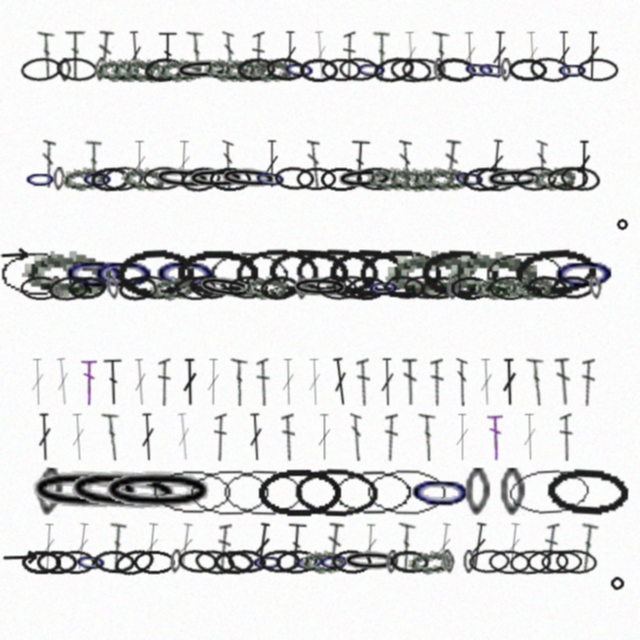chain: (62, 464, 185, 520), (25, 466, 146, 517), (98, 467, 218, 516), (384, 246, 476, 299), (513, 246, 597, 299), (506, 466, 591, 518), (207, 247, 291, 299), (545, 466, 629, 518), (22, 248, 111, 297), (295, 247, 380, 298), (267, 247, 351, 298), (448, 249, 537, 297), (328, 247, 411, 298), (294, 467, 378, 517), (115, 247, 197, 298), (235, 248, 320, 297), (221, 467, 304, 517), (420, 248, 501, 298), (257, 468, 341, 516), (331, 467, 413, 516), (365, 467, 447, 516), (176, 249, 258, 297), (359, 249, 441, 297), (483, 249, 565, 297), (188, 468, 270, 516), (151, 468, 232, 516), (0, 249, 78, 297), (61, 248, 129, 298), (90, 248, 158, 298), (152, 248, 220, 298), (407, 467, 475, 516), (551, 249, 618, 297), (195, 272, 257, 304), (152, 165, 213, 193), (218, 165, 279, 192), (173, 57, 234, 83), (335, 166, 395, 192), (484, 166, 544, 192), (112, 545, 157, 579), (290, 275, 350, 300), (341, 549, 401, 574), (35, 467, 64, 517), (186, 167, 246, 191), (148, 273, 195, 303), (371, 54, 416, 85), (47, 273, 92, 303), (60, 164, 106, 193), (473, 273, 519, 302), (187, 272, 230, 303), (179, 164, 223, 194), (193, 547, 237, 577), (528, 55, 573, 84), (122, 56, 168, 84), (387, 165, 433, 193), (407, 548, 453, 576), (130, 273, 174, 302), (526, 273, 569, 302), (389, 56, 433, 84), (435, 55, 477, 84), (559, 164, 601, 193), (121, 165, 166, 192), (531, 165, 576, 192), (508, 274, 553, 301), (419, 274, 462, 302), (465, 468, 490, 516), (500, 468, 525, 516), (55, 56, 99, 83), (315, 274, 359, 301), (117, 274, 159, 302), (157, 57, 202, 83), (246, 57, 291, 83), (101, 165, 144, 192), (332, 274, 375, 301), (403, 274, 446, 301), (555, 548, 598, 575), (20, 56, 62, 83), (143, 56, 185, 83), (515, 165, 557, 192), (384, 274, 426, 301), (177, 548, 219, 575), (226, 548, 268, 575), (401, 57, 444, 83), (462, 166, 505, 192), (488, 549, 531, 575), (509, 549, 552, 575), (265, 56, 306, 83), (259, 274, 300, 301), (204, 57, 248, 82), (367, 166, 411, 191), (411, 166, 455, 191), (425, 166, 469, 191), (243, 275, 287, 300), (301, 549, 345, 574), (475, 166, 517, 192), (346, 275, 388, 301), (93, 549, 135, 575), (275, 549, 318, 574), (90, 166, 131, 192), (67, 275, 108, 301), (213, 549, 254, 575), (389, 549, 430, 575), (95, 58, 139, 82), (111, 58, 155, 82), (222, 58, 266, 82), (338, 57, 380, 82), (331, 549, 373, 574), (468, 549, 510, 574), (527, 549, 569, 574), (292, 547, 328, 576), (236, 57, 277, 82), (143, 166, 184, 191), (274, 166, 315, 191), (547, 166, 588, 191), (552, 275, 593, 300), (259, 549, 300, 574), (475, 56, 511, 84), (577, 58, 619, 82), (209, 167, 251, 191), (320, 167, 362, 191), (356, 167, 398, 191), (20, 276, 62, 300), (489, 276, 531, 300), (133, 550, 175, 574), (228, 275, 268, 300), (175, 276, 216, 300), (450, 276, 491, 300), (36, 550, 77, 574), (541, 550, 582, 574), (299, 58, 339, 82), (321, 58, 361, 82), (508, 58, 548, 82), (296, 167, 336, 191), (21, 550, 61, 574), (55, 550, 95, 574), (282, 56, 317, 83), (462, 56, 497, 83), (253, 165, 288, 192), (452, 165, 487, 192), (74, 549, 108, 575), (355, 57, 388, 82), (367, 275, 400, 300), (318, 549, 351, 574), (556, 58, 589, 82), (24, 167, 57, 191), (81, 167, 114, 191), (251, 550, 284, 574), (105, 275, 121, 300), (588, 275, 603, 300), (441, 549, 456, 574), (94, 57, 108, 82), (169, 549, 183, 574), (385, 550, 399, 574), (433, 58, 446, 82), (50, 276, 63, 300), (59, 58, 71, 82), (500, 58, 512, 82), (53, 167, 65, 191), (296, 276, 308, 300), (447, 276, 459, 300), (463, 550, 475, 574)
double: (574, 522, 599, 572), (285, 522, 308, 571), (349, 139, 371, 188), (101, 412, 123, 461), (105, 522, 127, 571), (251, 522, 273, 571), (433, 522, 455, 571), (467, 522, 489, 571), (186, 30, 207, 79), (441, 139, 462, 188), (330, 357, 351, 406), (526, 357, 547, 406), (71, 522, 92, 571), (175, 522, 196, 571), (324, 522, 345, 571), (65, 31, 86, 79), (103, 358, 124, 406), (95, 30, 115, 79), (486, 139, 506, 188), (53, 357, 73, 406), (554, 357, 574, 406), (174, 412, 194, 461), (141, 522, 161, 571), (396, 522, 416, 571), (503, 522, 523, 571), (158, 31, 178, 79), (311, 30, 330, 79), (37, 31, 56, 79), (126, 31, 145, 79), (371, 31, 390, 79), (83, 140, 102, 188), (131, 358, 150, 406), (418, 413, 437, 461), (542, 522, 560, 571), (402, 31, 420, 79), (432, 31, 450, 79), (523, 31, 541, 79), (174, 140, 192, 188), (230, 358, 248, 406), (69, 413, 87, 461), (139, 413, 157, 461), (247, 413, 265, 461), (39, 523, 57, 571), (361, 523, 379, 571), (461, 31, 478, 79), (491, 31, 508, 79), (584, 31, 601, 79), (29, 358, 46, 406), (306, 358, 323, 406), (379, 358, 396, 406), (402, 358, 419, 406), (478, 358, 495, 406), (501, 358, 518, 406), (36, 413, 53, 461), (487, 413, 504, 461), (521, 413, 538, 461), (282, 31, 298, 79), (556, 31, 572, 79), (40, 140, 56, 188), (131, 140, 147, 188), (264, 140, 280, 188), (576, 140, 592, 188), (81, 358, 97, 406), (182, 358, 198, 406), (205, 358, 221, 406), (280, 358, 296, 406), (316, 413, 332, 461), (454, 413, 470, 461), (216, 523, 232, 571), (222, 31, 237, 79), (256, 358, 271, 406), (356, 358, 371, 406), (281, 413, 296, 461), (559, 413, 574, 461), (307, 140, 321, 188), (430, 358, 444, 406), (581, 358, 595, 406), (384, 413, 398, 461), (252, 31, 265, 79), (343, 31, 356, 79), (399, 140, 412, 188), (158, 358, 171, 406), (214, 413, 227, 461), (350, 413, 363, 461), (222, 140, 234, 188), (536, 140, 548, 188), (456, 358, 468, 406)
noise: (2, 550, 39, 564), (0, 248, 30, 261), (610, 576, 625, 591), (616, 218, 629, 231)
